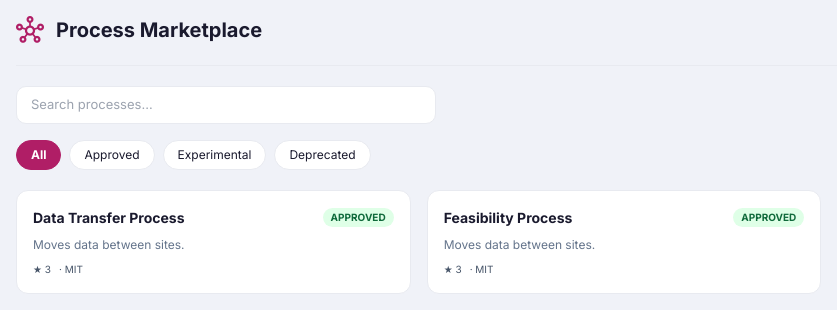
Test: MarketplacePage › filters the grid by the search query (name and topic)
Type "feasibility" into the field with placeholder "Search processes…" at (226, 105), box [16, 86, 436, 124]
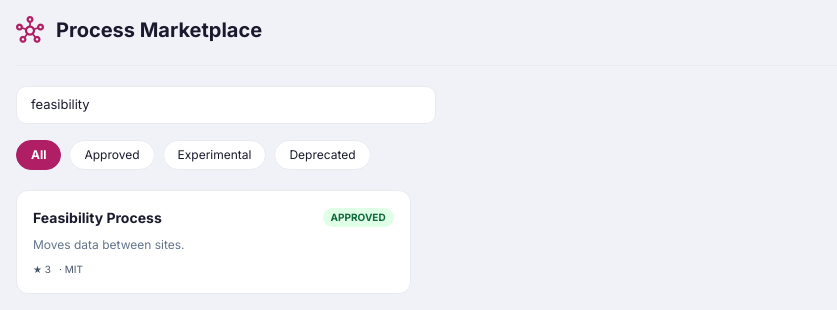
expect the text "Feasibility Process" is shown: met, box [33, 206, 162, 228]
expect the link "Data Transfer Process" is gone: met
Note: A topic-only match still surfaces the right card.
Replace the text in the field with placeholder "Search processes…" with "fhir" at (226, 105), box [16, 86, 436, 124]
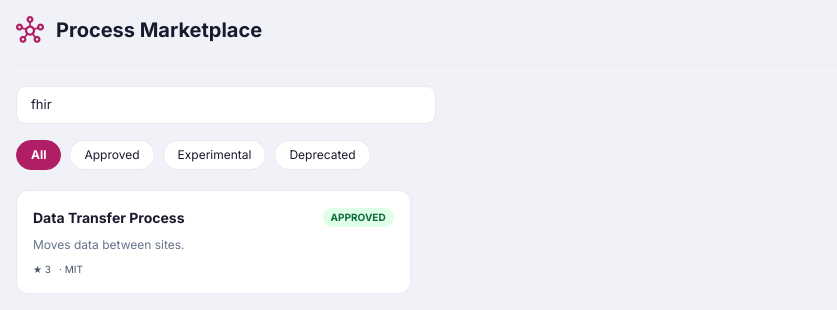
expect the text "Data Transfer Process" is shown: met, box [33, 206, 184, 228]
expect the link "Feasibility Process" is gone: met
